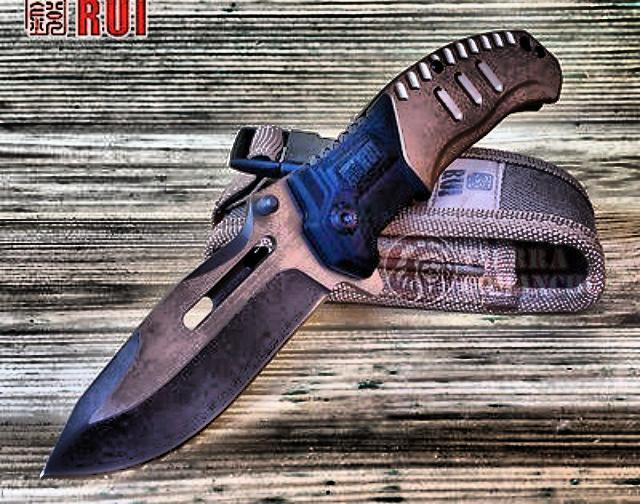knife: (27, 172, 339, 488)
